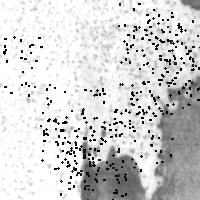pitted_surface: (1, 1, 163, 150), (149, 75, 200, 199), (75, 138, 147, 200), (57, 134, 117, 193), (40, 110, 98, 170), (45, 84, 104, 142), (93, 81, 152, 139), (113, 111, 171, 169), (123, 24, 180, 83), (118, 3, 175, 61), (131, 59, 190, 113), (66, 145, 125, 199), (144, 12, 200, 68), (0, 36, 40, 94), (168, 47, 200, 106)
